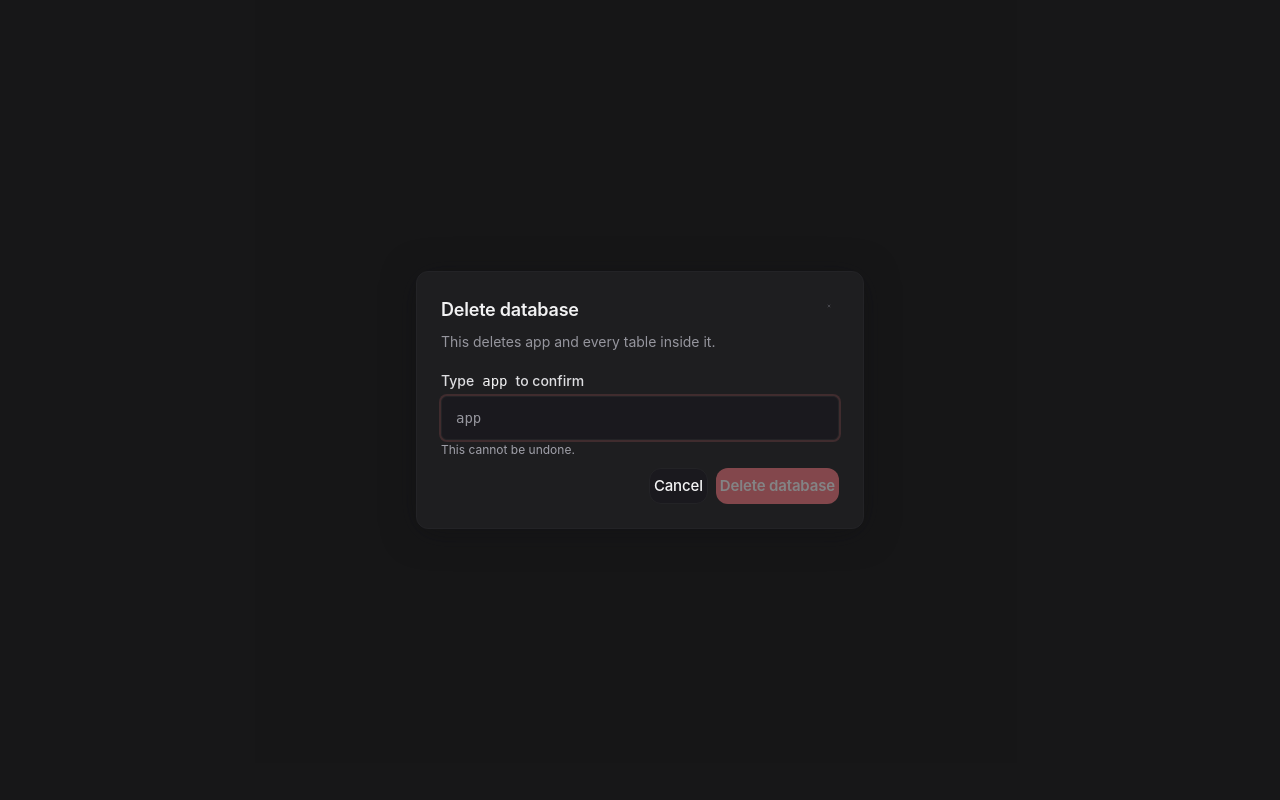
Test: DeleteResourceDialog › keeps the destructive control disabled until the name matches
Expected: the button "Delete database" is disabled, [716,468,839,504]
Type "ap" into the field at {"x": 640, "y": 418}, box [441,396,839,440]
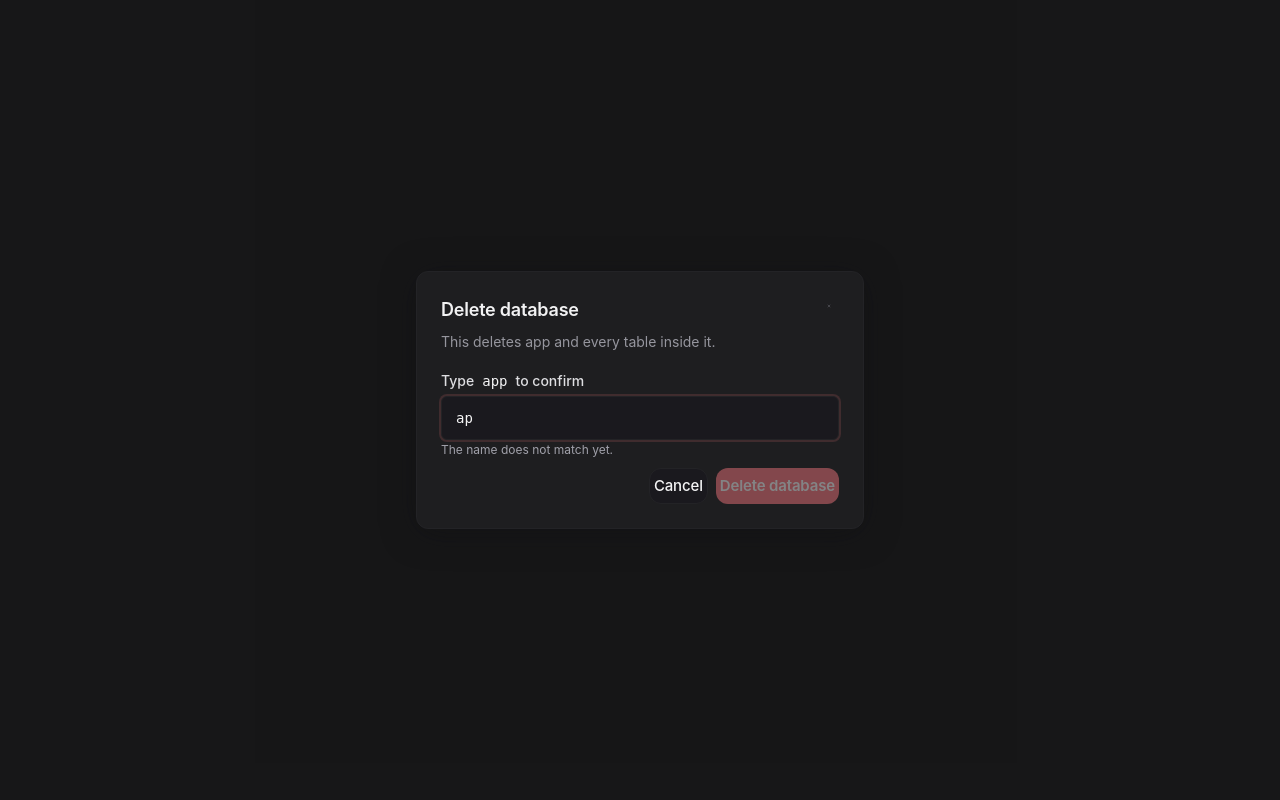
Expected: the button "Delete database" is disabled, [716,468,839,504]
Now the text "The name does not match yet." is shown, box [441,442,613,457]
Replace the text in the field with "app" at {"x": 640, "y": 418}, box [441,396,839,440]
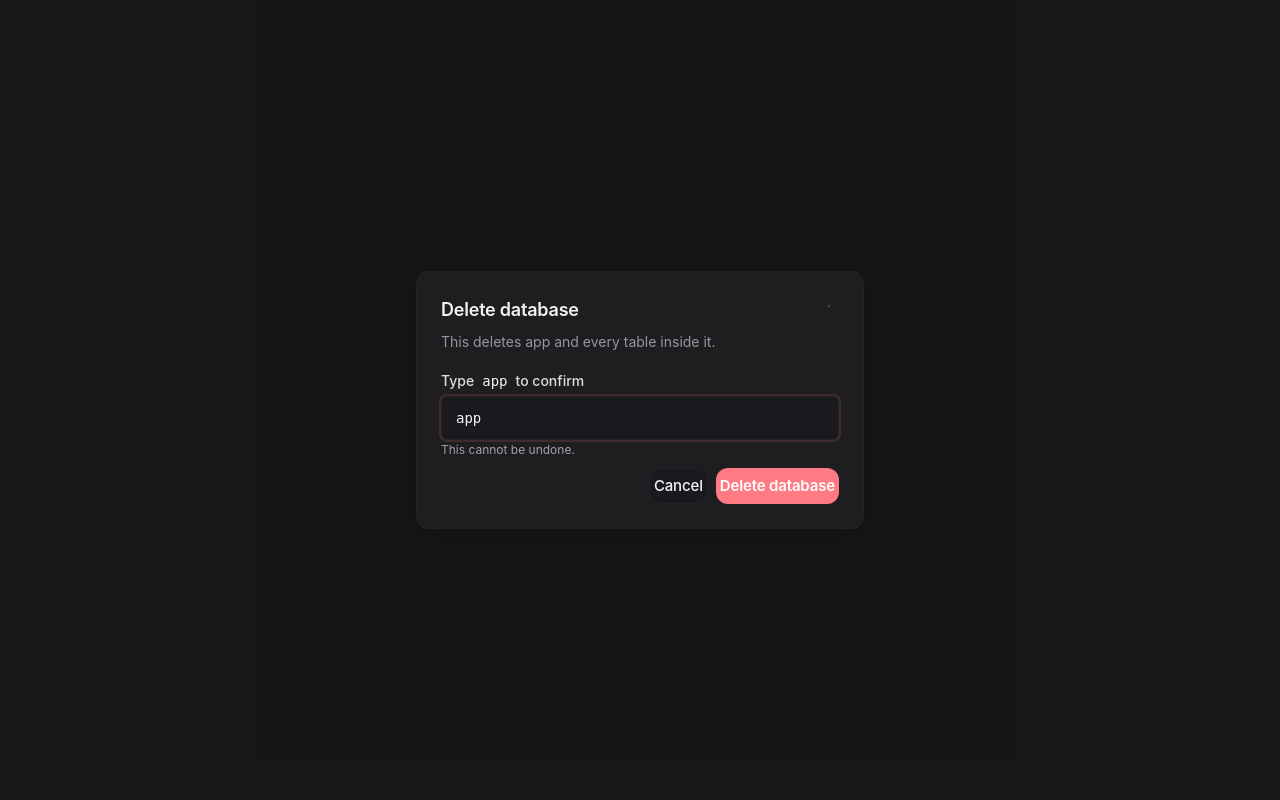
Now the button "Delete database" is enabled, box [716,468,839,504]
